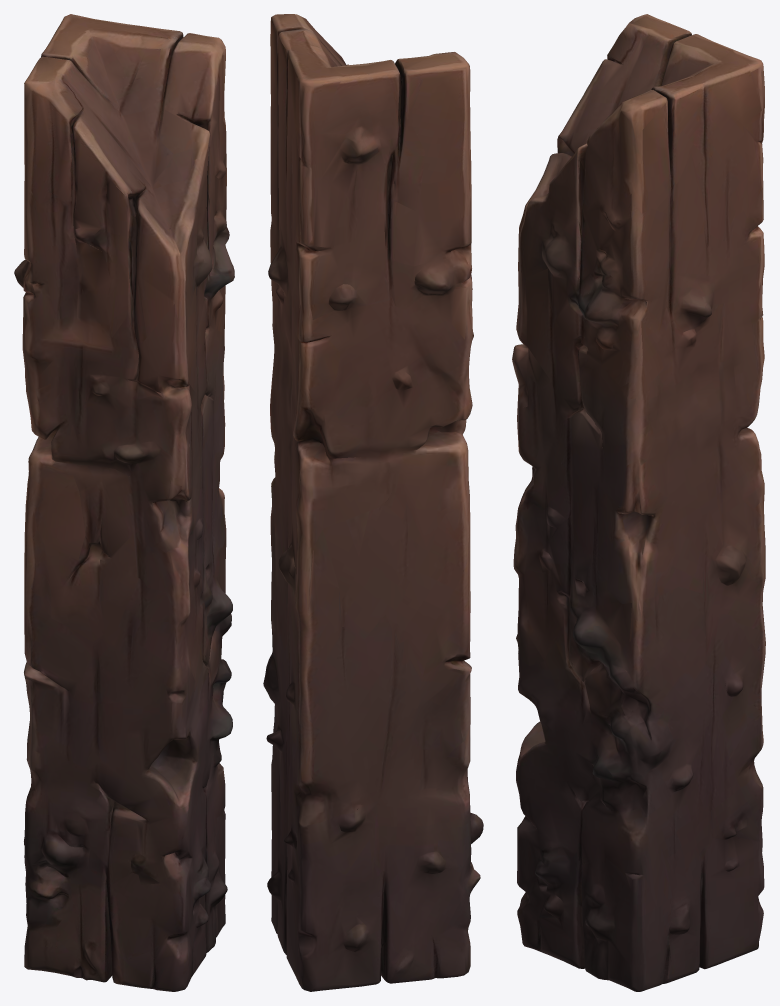
Rendered from mine_post_wood_idle.glb.
3 renders of one model, left to right at view 1: azimuth 30°, elevation 25°; view 2: azimuth 150°, elevation 25°; view 3: azimuth 270°, elevation 25°, orthographic. The views are drawn at different scales.
Parts seen in each view (by area): view 1: tripo_node_bc118c86-38b8-4a3c-958c-14934f4fc470; view 2: tripo_node_bc118c86-38b8-4a3c-958c-14934f4fc470; view 3: tripo_node_bc118c86-38b8-4a3c-958c-14934f4fc470.
Part boxes in pixels (x1,y1,x2,y2): tripo_node_bc118c86-38b8-4a3c-958c-14934f4fc470: (14, 14, 234, 991); tripo_node_bc118c86-38b8-4a3c-958c-14934f4fc470: (263, 14, 483, 991); tripo_node_bc118c86-38b8-4a3c-958c-14934f4fc470: (512, 14, 765, 991).
Bounding box in the file's own units: 0.5846 × 2.5 × 0.6479.
1 material, 1 textured.
